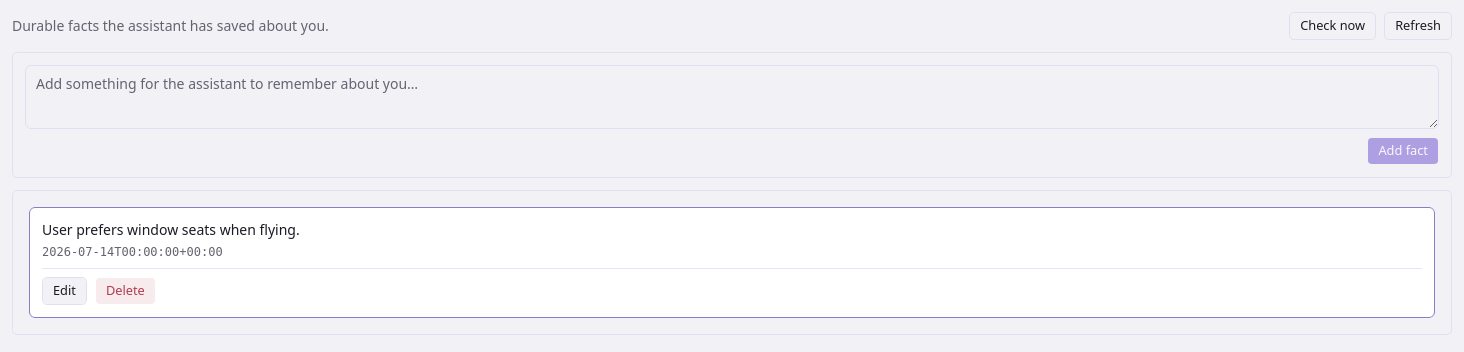
Test case: MemoryPanel › refetches when Refresh is clicked
The image size is (1464, 352).
Expected: the text "User prefers window seats when flying." is shown, x1=42 y1=220 x2=300 y2=239
Step 1. Click the button "Refresh" → click(1418, 26), box x1=1384 y1=12 x2=1452 y2=40
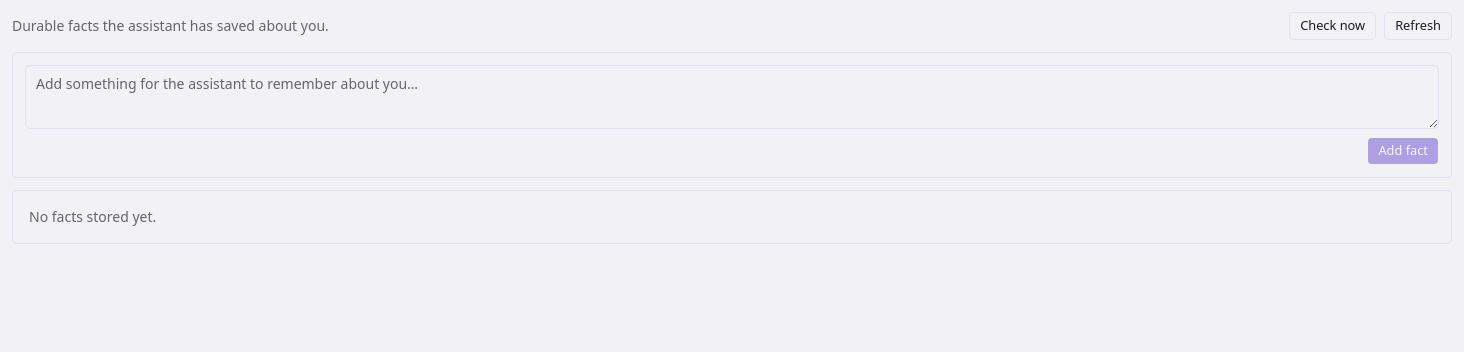
Result: the text "No facts stored yet." is shown at x1=29 y1=207 x2=156 y2=226
